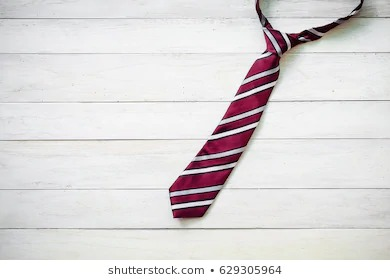F_tie: (152, 1, 376, 222)
